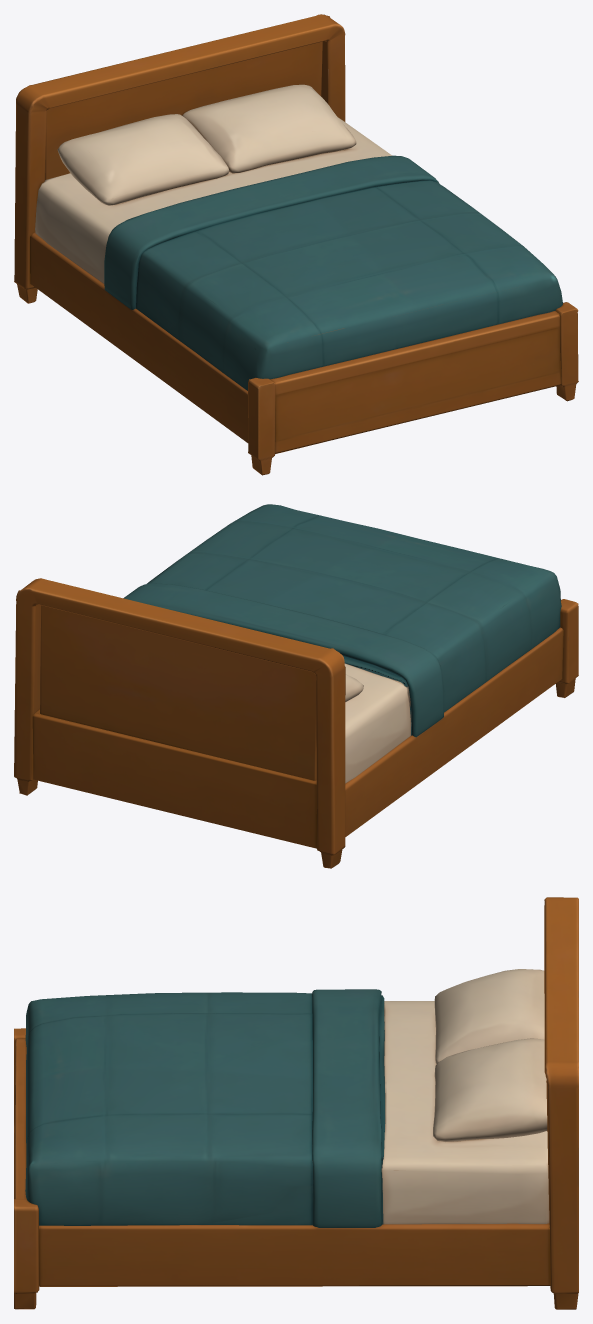
Rendered from apartment-bed.glb.
3 views of the same model, one above another, from view 1: azimuth 30°, elevation 25°; view 2: azimuth 150°, elevation 25°; view 3: azimuth 270°, elevation 25° (orthographic). The views are drawn at different scales.
Visible parts, largest first — view 1: geometry_0; view 2: geometry_0; view 3: geometry_0.
Part boxes in pixels (bbox=[...]): geometry_0: bbox=[14, 14, 578, 475]; geometry_0: bbox=[14, 504, 578, 868]; geometry_0: bbox=[14, 897, 578, 1309].
Bounding box in the file's own units: 0.7593 × 0.4728 × 1.
Materials: 1 (1 with a texture image).
